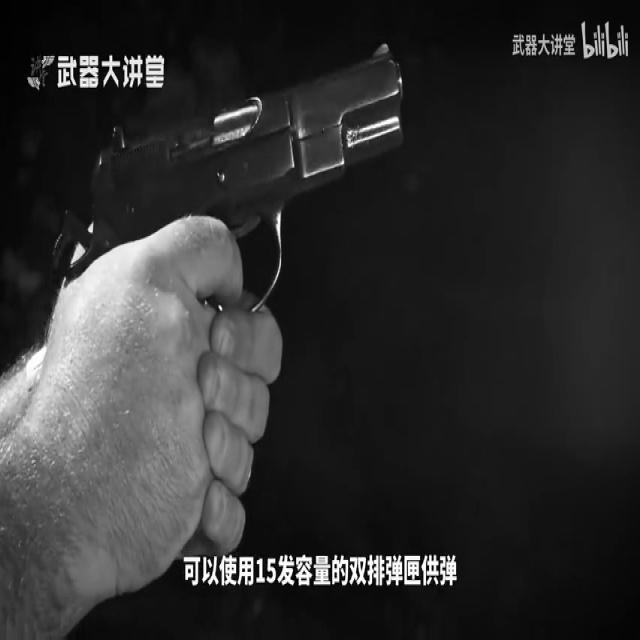Hand-Gun: (0, 0, 435, 496)
